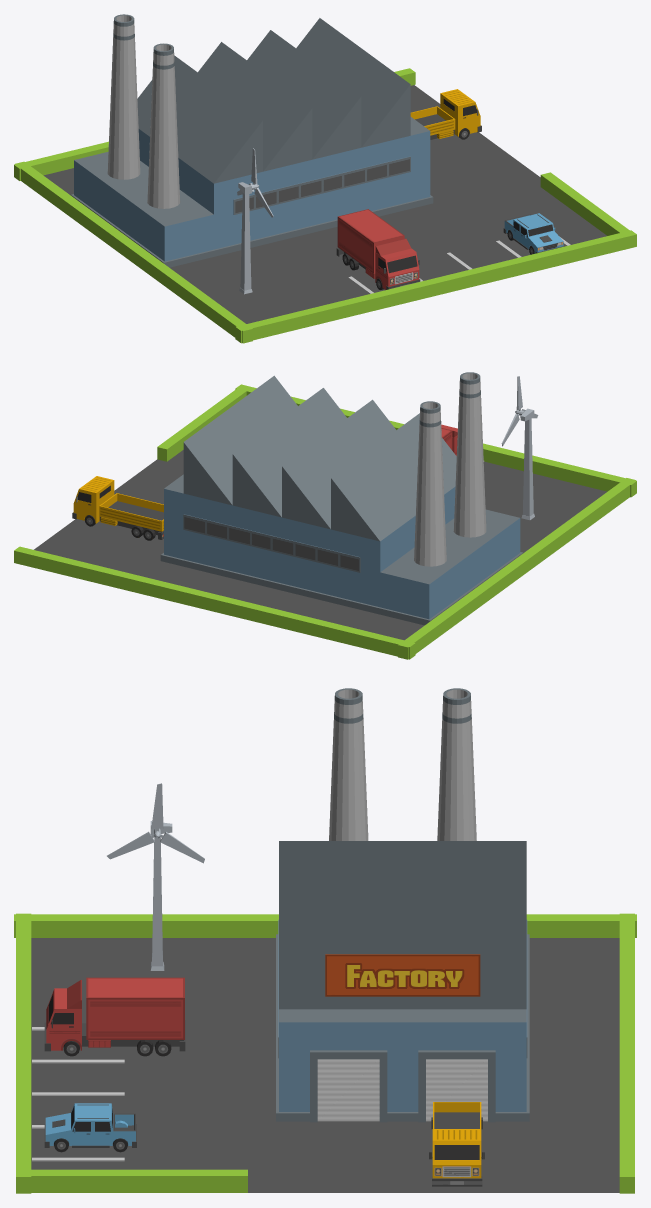
Rendered from factory.gltf.
The picture shows the model from 3 angles, top to bottom: view 1: azimuth 30°, elevation 25°; view 2: azimuth 150°, elevation 25°; view 3: azimuth 270°, elevation 25°; orthographic projection. The views are drawn at different scales.
Visible parts, largest first — view 1: Building_Factory_Cube.005, Road Tile_Plane.003, Natures_Grass Fence_Cube.2536 (×4), Vehicle_Container_Cube.056, Vehicle_Truck_Cube.061, Vehicle_Pick up Truck_Cube.095, Props_Windmill_Post; view 2: Building_Factory_Cube.005, Natures_Grass Fence_Cube.2536 (×4), Road Tile_Plane.003, Vehicle_Truck_Cube.061, Props_Windmill_Post; view 3: Road Tile_Plane.003, Building_Factory_Cube.005, Natures_Grass Fence_Cube.2536 (×4), Vehicle_Container_Cube.056, Vehicle_Truck_Cube.061, Vehicle_Pick up Truck_Cube.095, Props_Windmill_Post, Wings_Cylinder.127.
Part boxes in pixels (left/top/right/bottom): Building_Factory_Cube.005: left=70, top=14, right=433, bottom=267; Road Tile_Plane.003: left=43, top=85, right=606, bottom=323; Natures_Grass Fence_Cube.2536 (×4): left=14, top=68, right=636, bottom=343; Vehicle_Container_Cube.056: left=336, top=209, right=420, bottom=289; Vehicle_Truck_Cube.061: left=410, top=89, right=481, bottom=139; Vehicle_Pick up Truck_Cube.095: left=503, top=213, right=564, bottom=254; Props_Windmill_Post: left=238, top=182, right=252, bottom=294; Building_Factory_Cube.005: left=160, top=372, right=523, bottom=625; Natures_Grass Fence_Cube.2536 (×4): left=14, top=384, right=636, bottom=659; Road Tile_Plane.003: left=34, top=450, right=606, bottom=640; Vehicle_Truck_Cube.061: left=72, top=476, right=163, bottom=540; Props_Windmill_Post: left=520, top=408, right=534, bottom=520; Road Tile_Plane.003: left=31, top=938, right=619, bottom=1192; Building_Factory_Cube.005: left=276, top=688, right=529, bottom=1122; Natures_Grass Fence_Cube.2536 (×4): left=14, top=913, right=636, bottom=1193; Vehicle_Container_Cube.056: left=44, top=977, right=185, bottom=1056; Vehicle_Truck_Cube.061: left=429, top=1102, right=484, bottom=1186; Vehicle_Pick up Truck_Cube.095: left=44, top=1103, right=136, bottom=1152; Props_Windmill_Post: left=150, top=821, right=172, bottom=970; Wings_Cylinder.127: left=107, top=783, right=204, bottom=863.
Bounding box in the file's own units: 40.25 × 19.07 × 40.25.
Materials: 9 (9 with a texture image).
